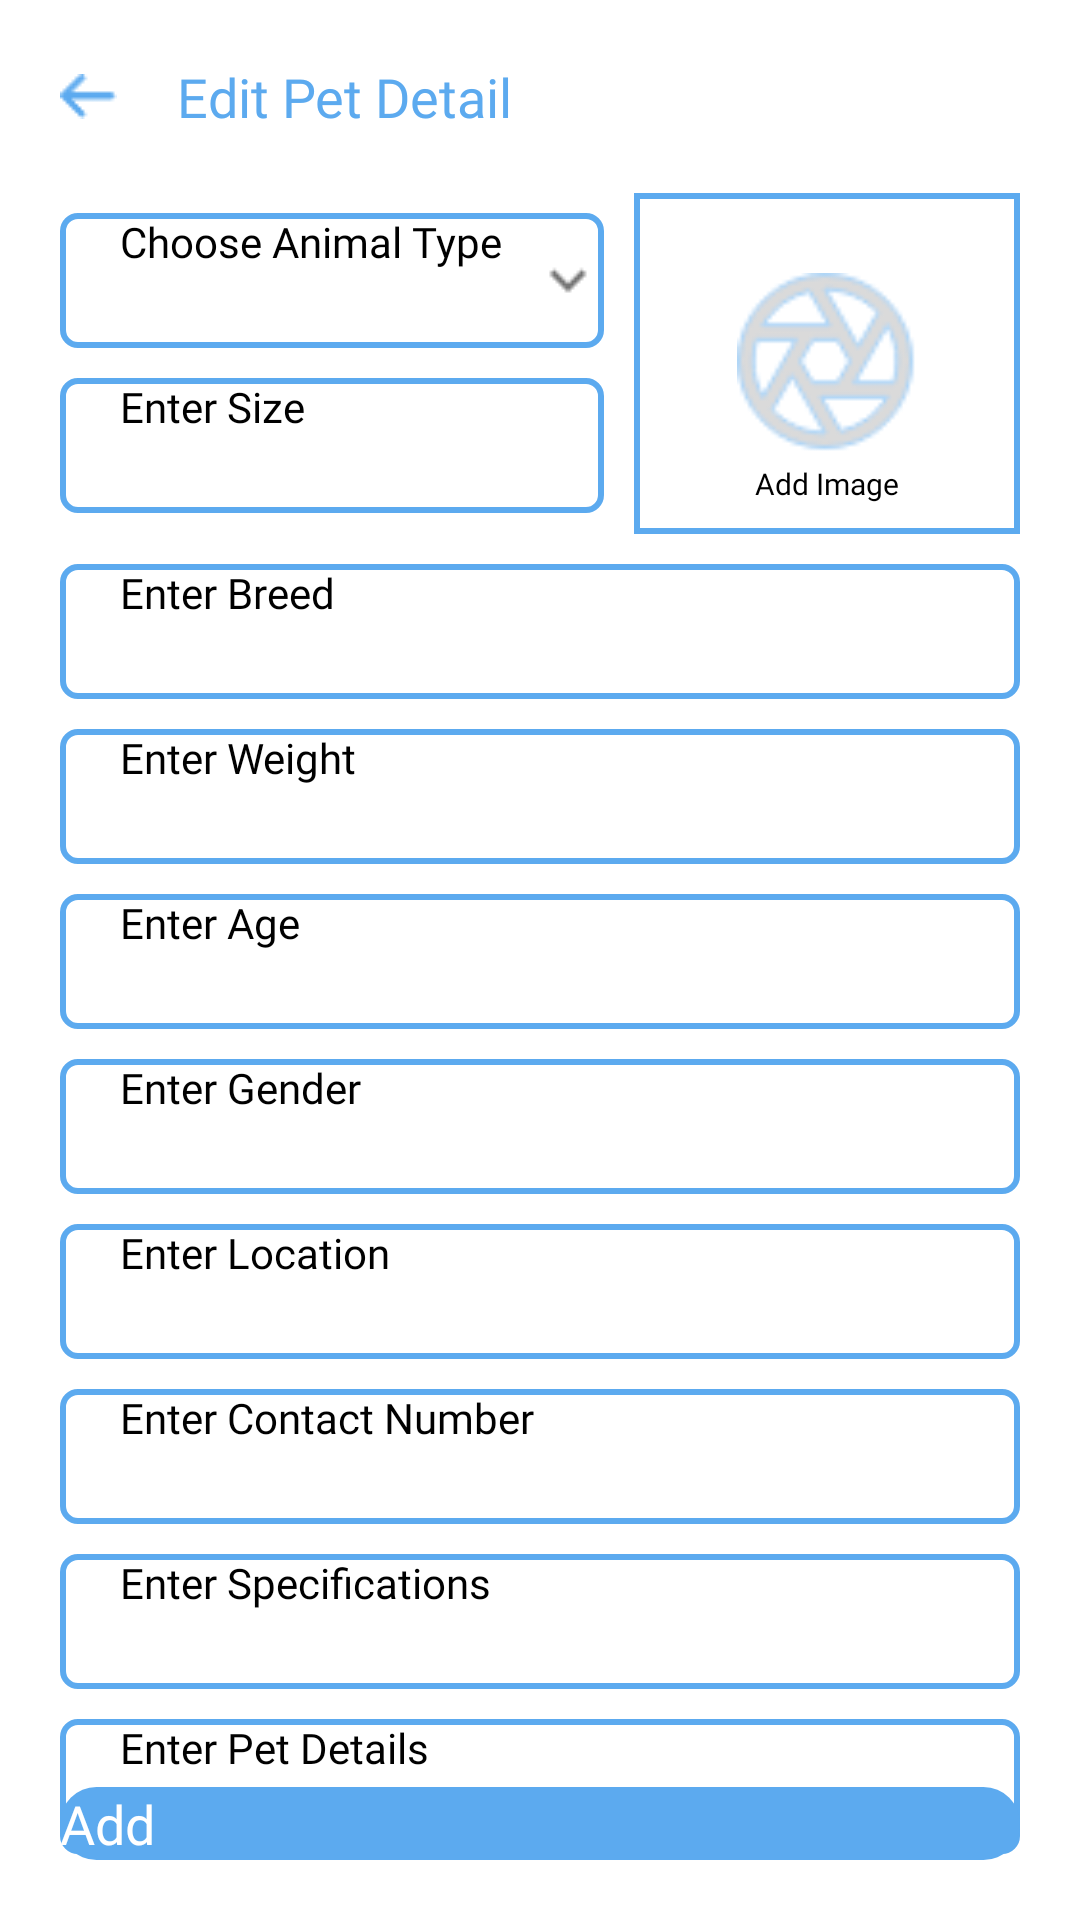

Icons on this 1080x1920 Android screen, each with its box as (x1, y1, x2, y2):
row back: (60, 74, 117, 119)
